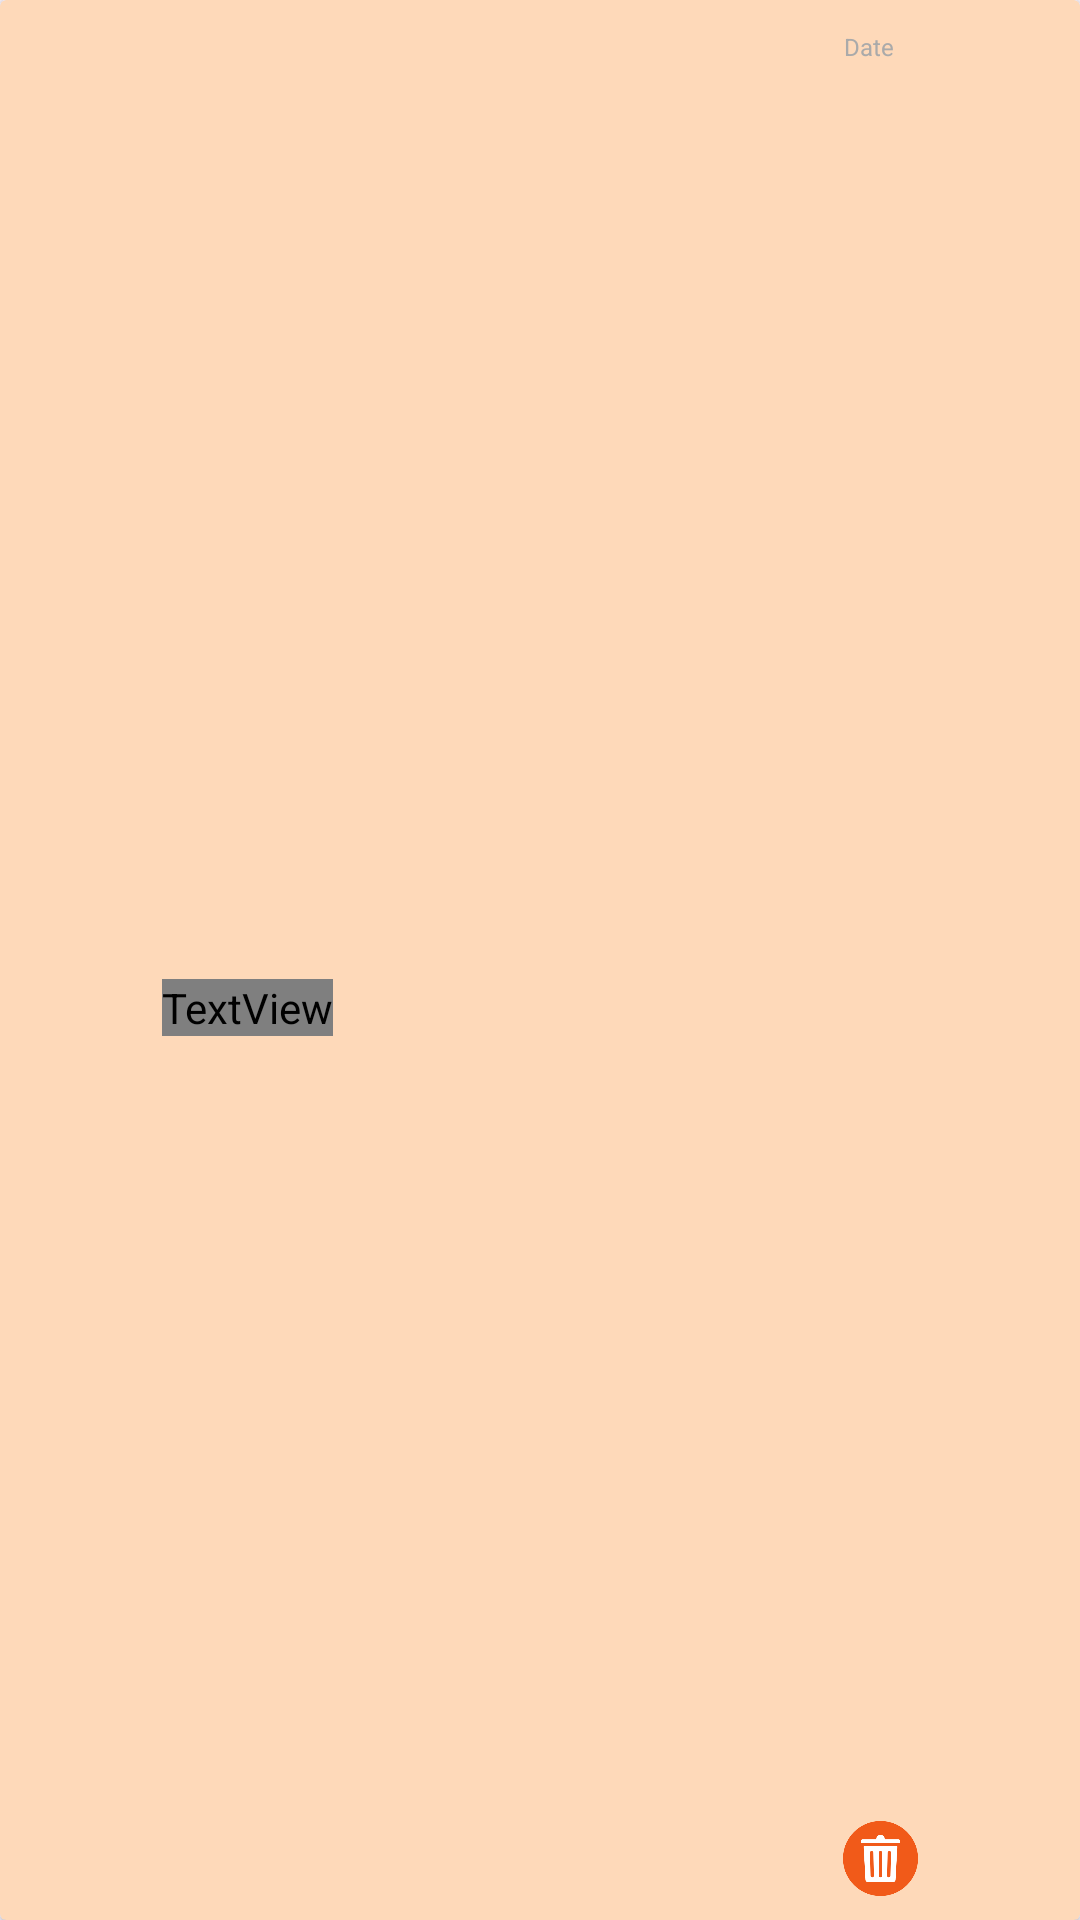

Point at icon controls on the screen. Image size 1080*1920, points as [x,y].
bin: [880,1858]
